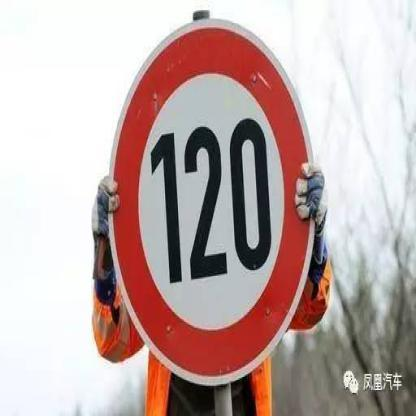Speed Limit 120: (112, 26, 313, 382)
